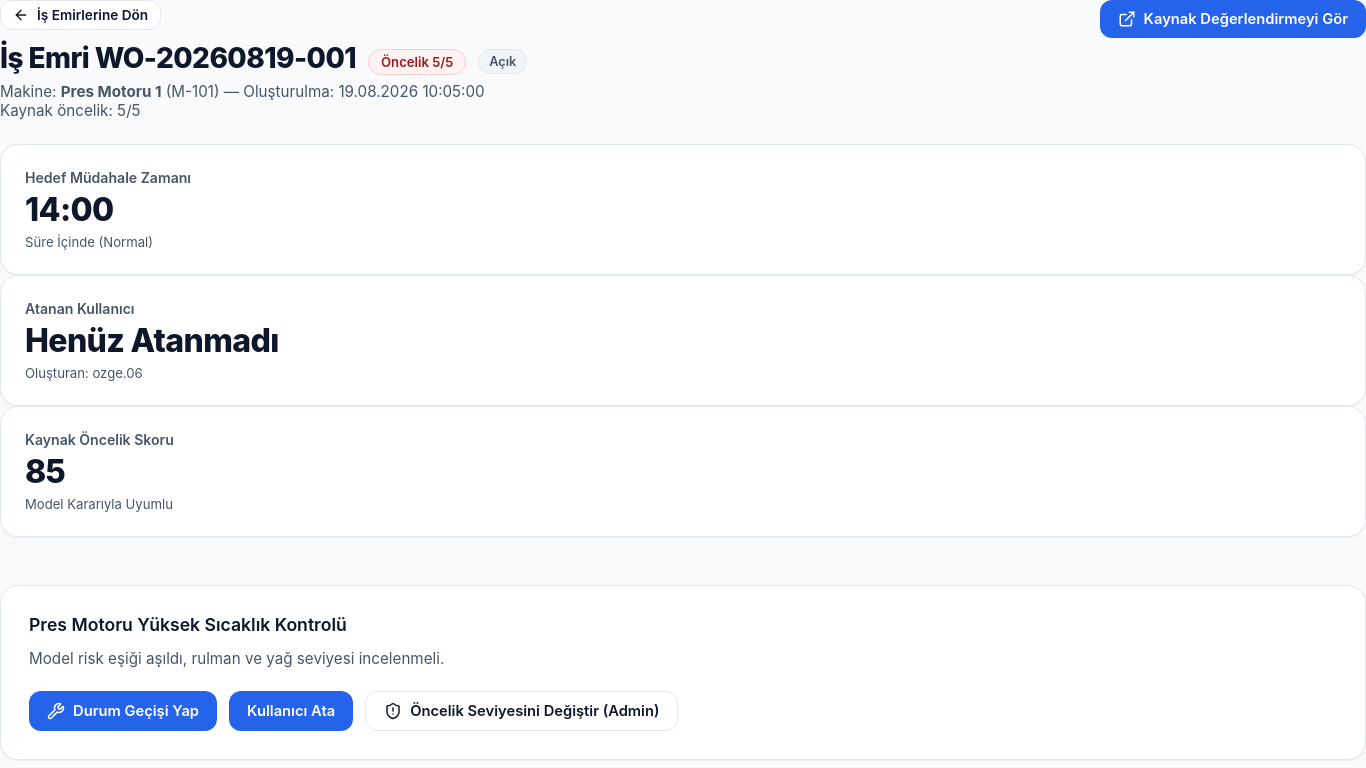
IsEmriDetay › ADMIN yalnız aktif kullanıcıya atar ve dönen güncel state bilgisini gösterir
The width and height of the screenshot is (1366, 768).
Click the button "Kullanıcı Ata": [291, 711] box x1=229 y1=691 x2=353 y2=731
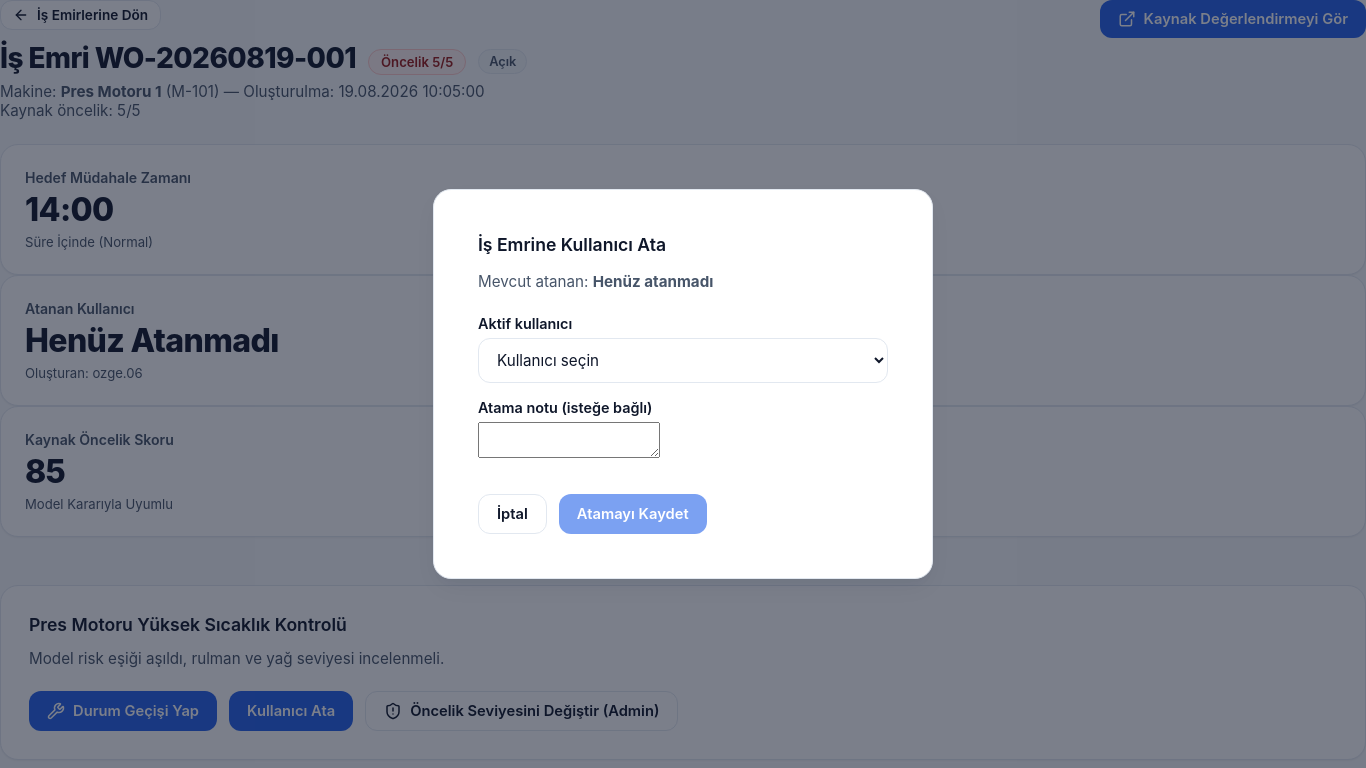
Select "aktif.user" in the dropdown labelled "Aktif kullanıcı": [683, 360] box x1=478 y1=338 x2=888 y2=383
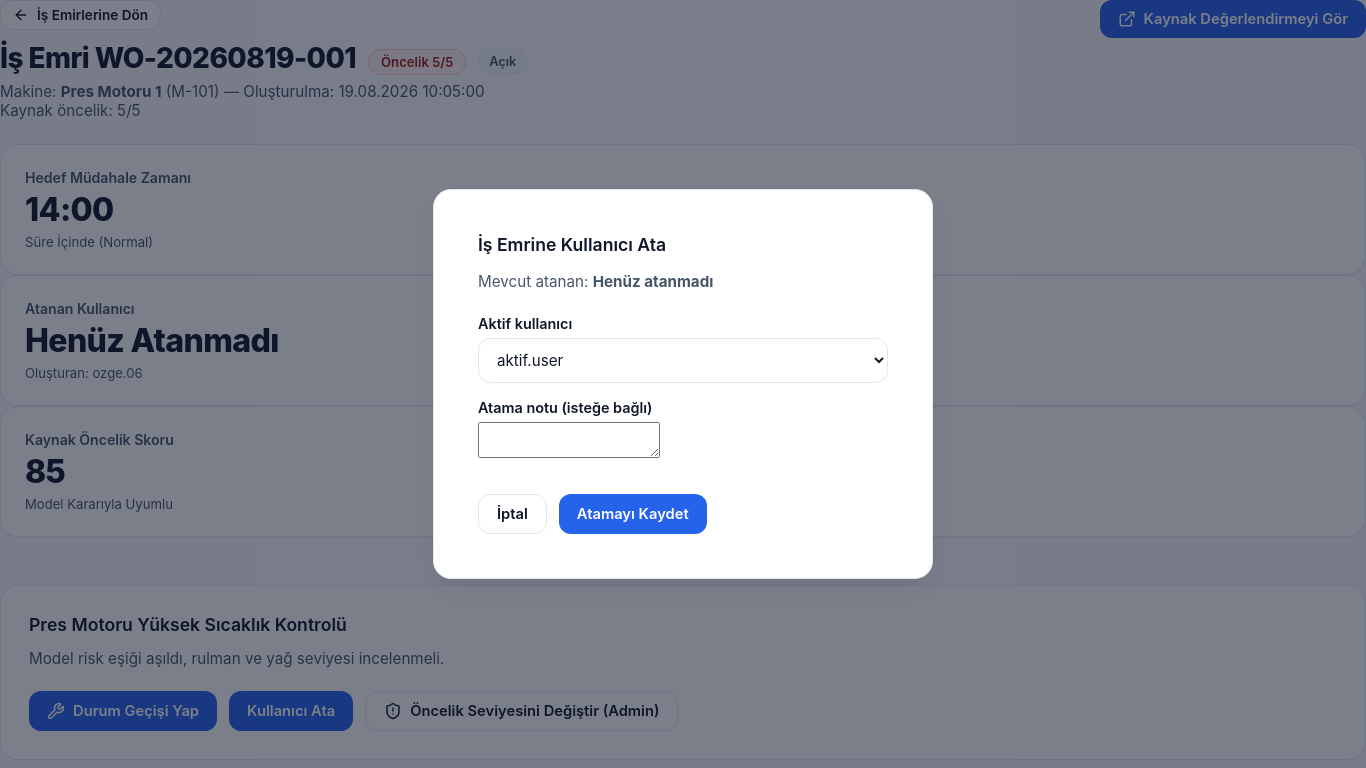
Click the button "Atamayı Kaydet": [633, 514] box x1=559 y1=494 x2=707 y2=534
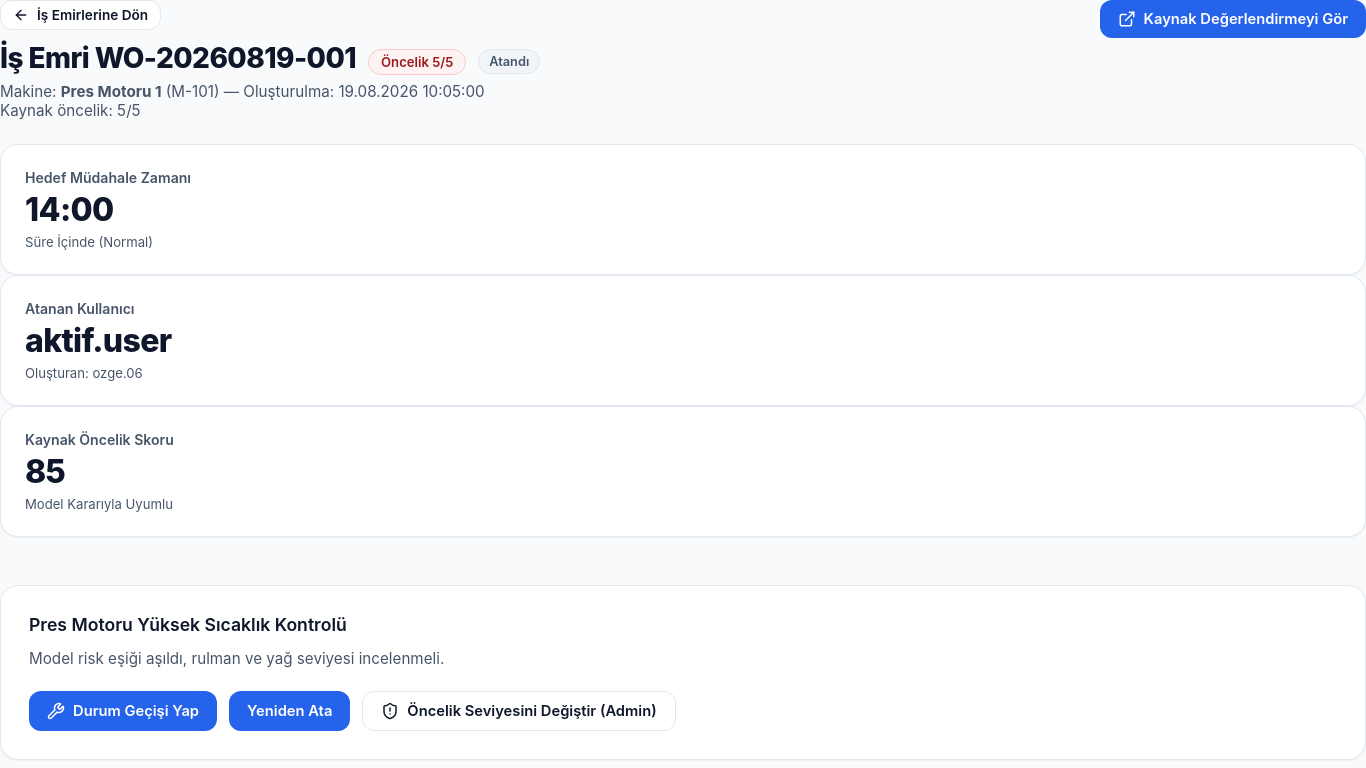
Expected: the text "aktif.user" is shown, x1=25 y1=325 x2=172 y2=357
